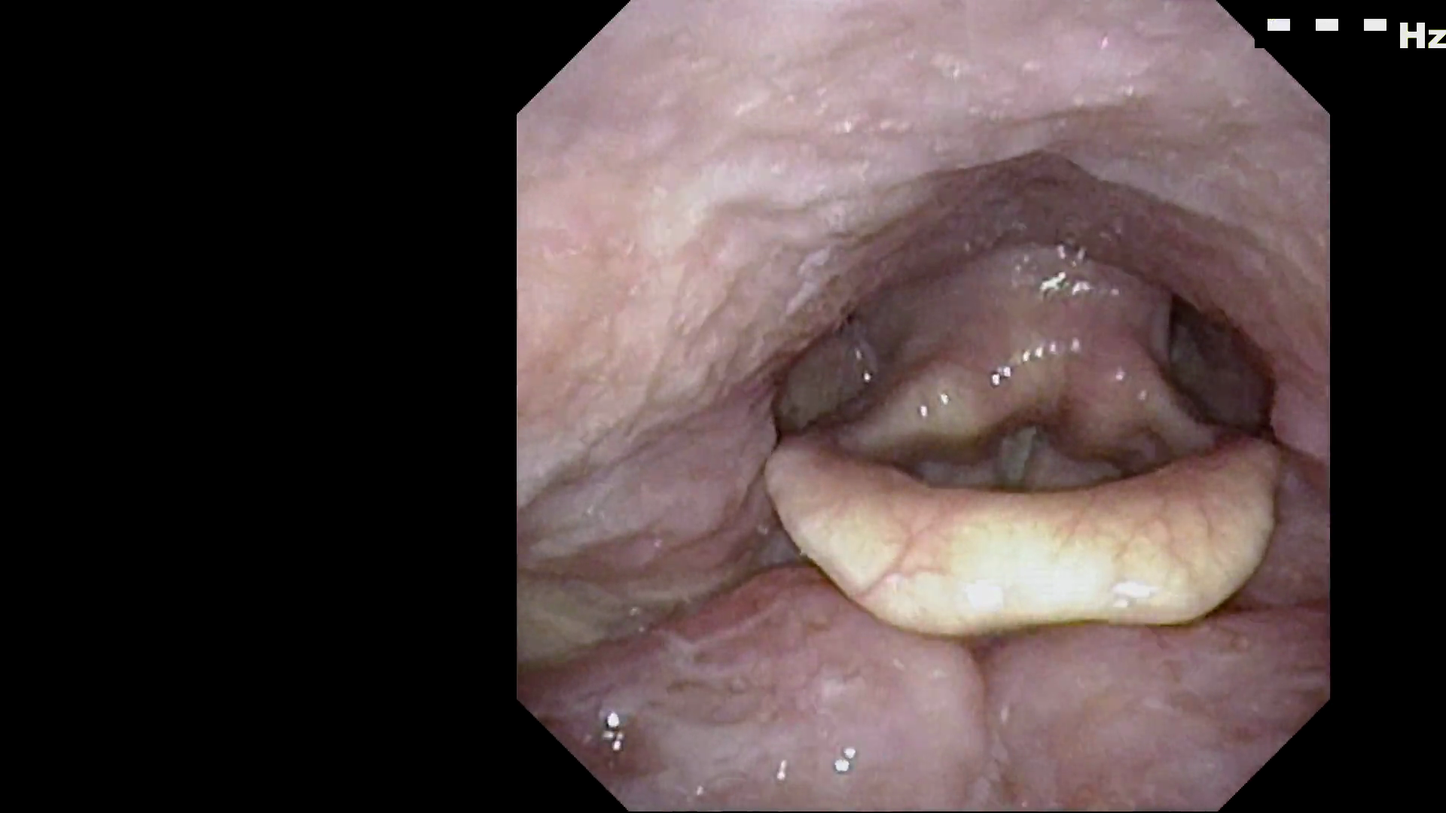epiglottis: (719, 421, 1291, 659)
trachea: (938, 390, 1080, 547)
